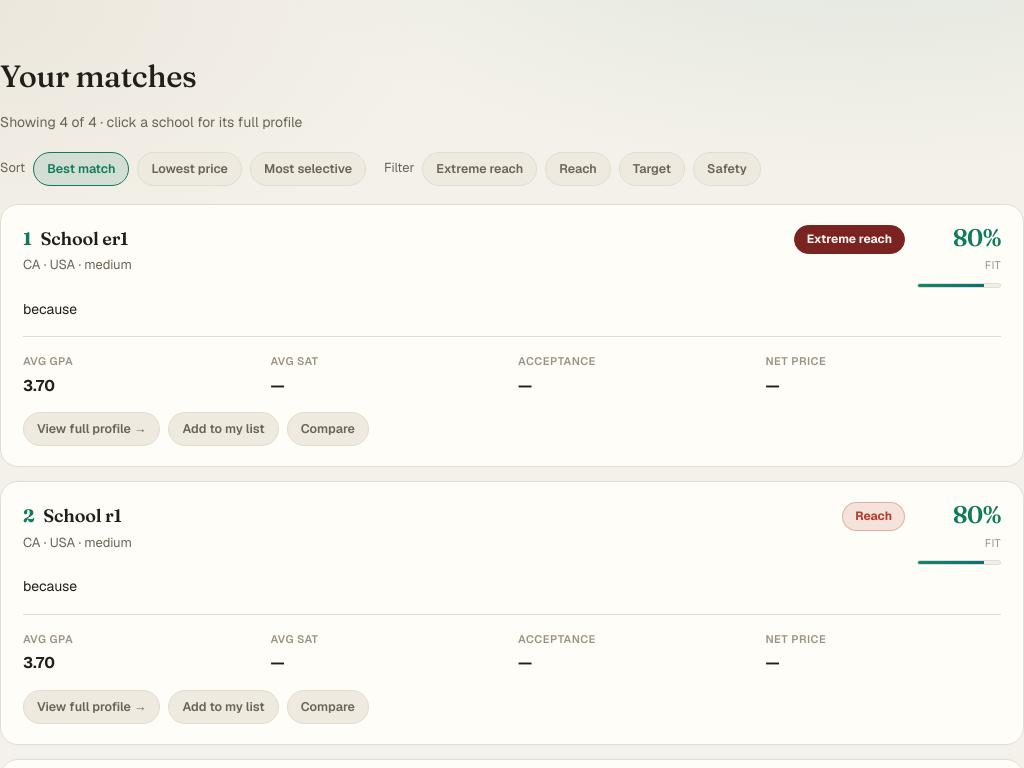
Test: MatchResults tier filter › filters down to only extreme-reach schools when that chip is toggled on
This screenshot has width=1024, height=768.
Click the button "Extreme reach": (480, 168) [422,152,537,186]
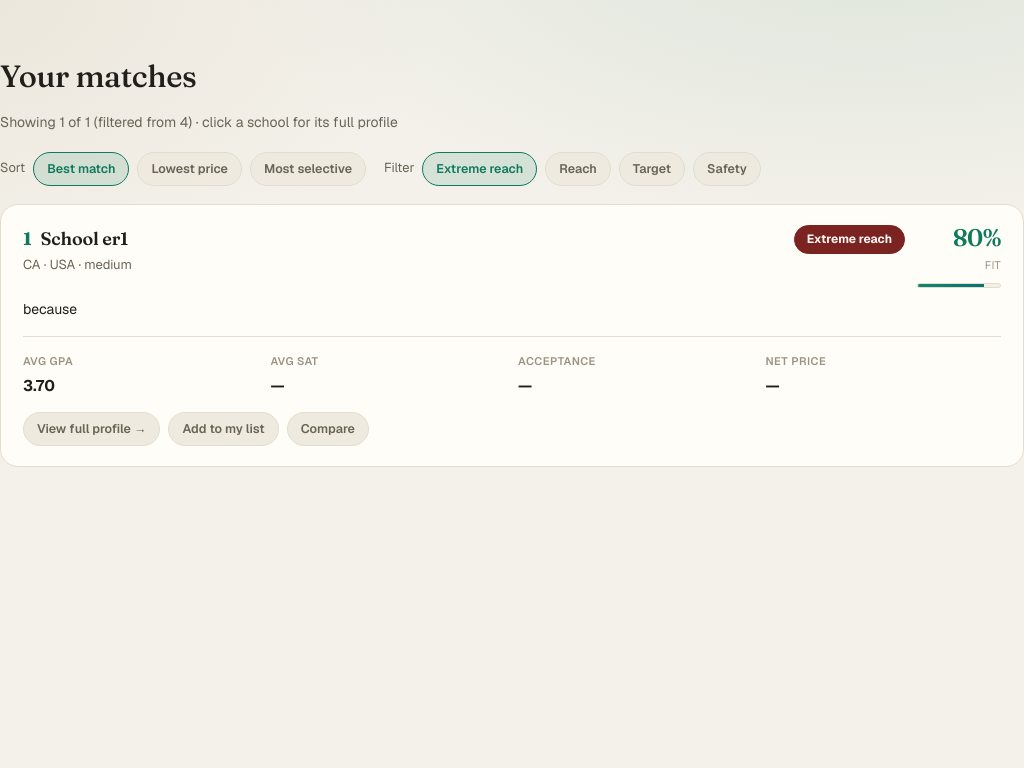
Check: the heading "1School er1" is shown, box [23,224,132,253]
Check: the heading "School r1" is gone
